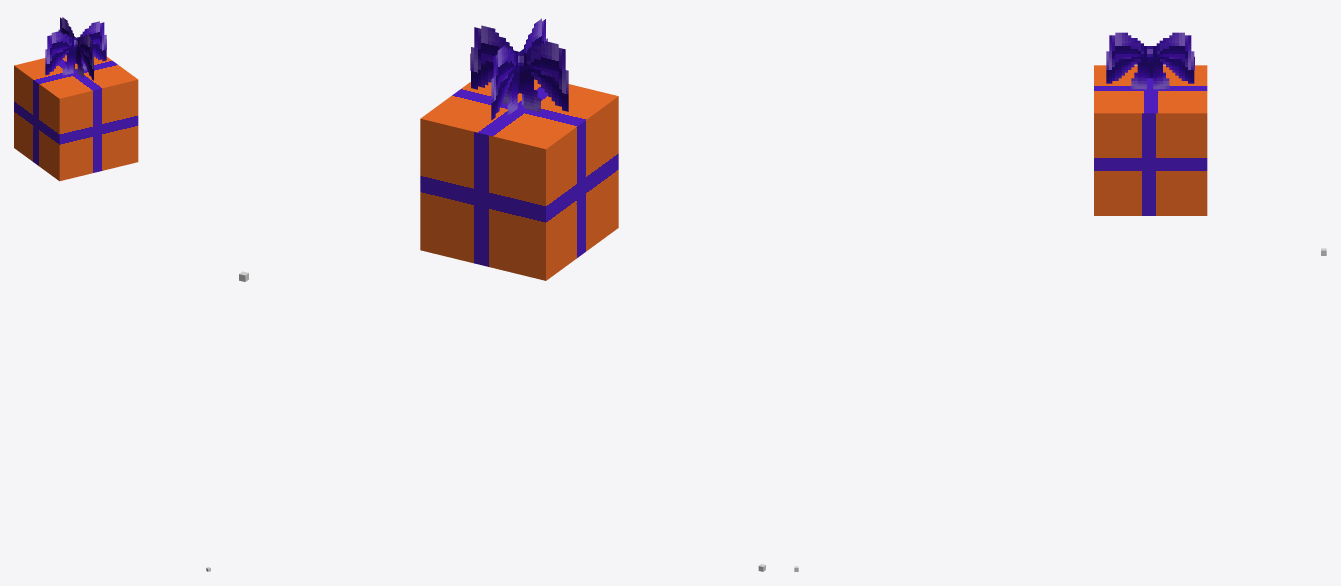
The model's file is OrangePurple.FBX.
3 renders of one model, left to right at view 1: azimuth 30°, elevation 25°; view 2: azimuth 150°, elevation 25°; view 3: azimuth 270°, elevation 25°, orthographic. The views are drawn at different scales.
Visible parts, largest first — view 1: PresentOrange; view 2: PresentOrange; view 3: PresentOrange.
Boxes of the visible parts, x1,y1,x2,y2 form: PresentOrange: (14,17,138,181); PresentOrange: (420,18,618,280); PresentOrange: (1094,32,1207,215).
Bounding box in the file's own units: 733 × 2121 × 1878.
1 material, 1 textured.
